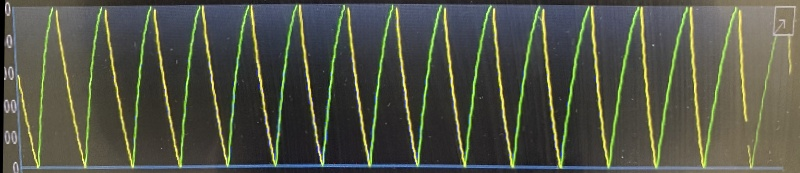normal_volume: (23, 1, 754, 171)
